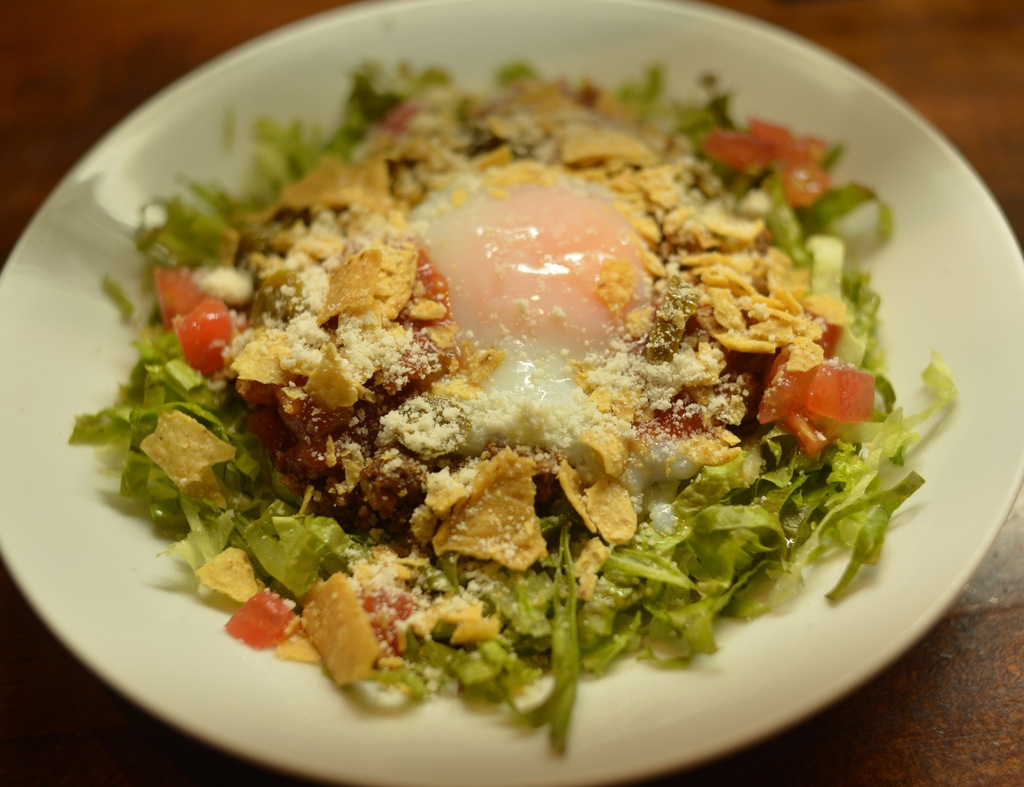salad: (62, 32, 959, 750)
